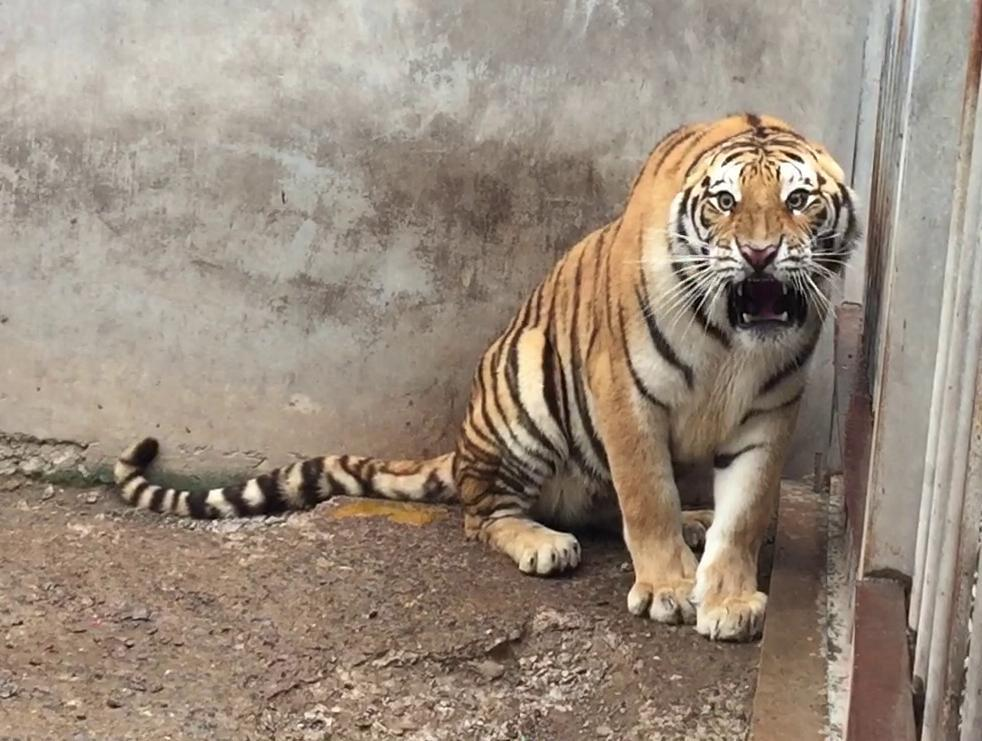tiger: (116, 113, 860, 639)
